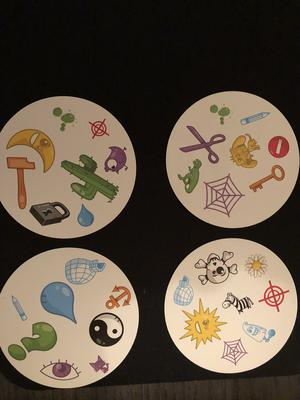ancre: (104, 282, 131, 310)
cactus: (59, 153, 121, 205)
cadenas: (29, 199, 72, 227)
chat: (88, 354, 109, 375)
chien: (224, 130, 263, 170)
cible: (258, 280, 291, 315), (86, 116, 110, 143)
ciseau: (177, 123, 226, 166)
cle: (248, 164, 288, 195)
crayon: (239, 108, 272, 129), (10, 293, 28, 323)
dinosore: (176, 159, 203, 194)
fantome: (238, 318, 277, 344)
fleur: (242, 251, 269, 283)
goutte: (37, 281, 77, 325), (74, 202, 96, 226)
igloo: (62, 255, 107, 287), (171, 275, 196, 307)
lune: (5, 127, 57, 174)
marteau: (4, 155, 37, 211)
oeuil: (35, 358, 83, 383)
oiseau: (104, 144, 131, 175)
point_interrogation: (7, 320, 59, 362)
sens_interdit: (266, 134, 292, 160)
soleil: (177, 297, 227, 352)
tache: (50, 105, 79, 133), (208, 102, 234, 127)
tete_mort: (193, 247, 238, 289)
toile: (201, 173, 246, 215), (220, 337, 250, 368)
ying_yang: (86, 311, 127, 347)
zebre: (221, 291, 256, 315)
